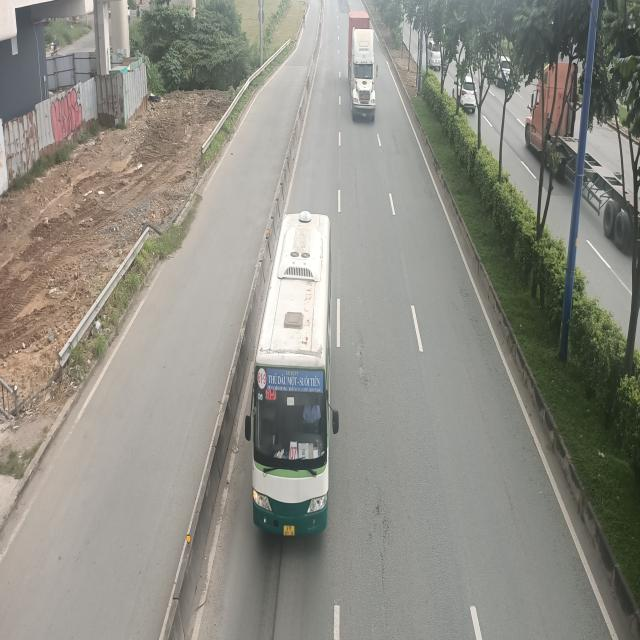coach: (242, 213, 338, 540)
container: (349, 13, 378, 122)
